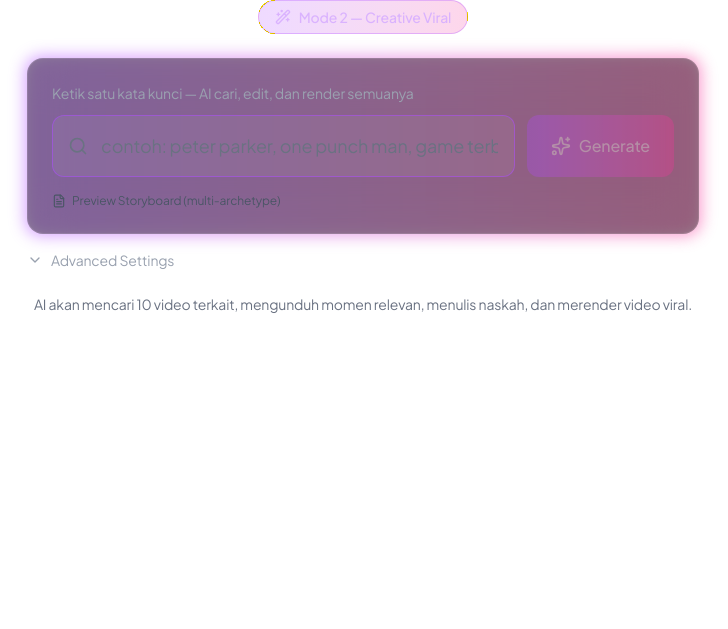
it: Mode2Console storyboard editing › removes a clip and relabels roles
The width and height of the screenshot is (728, 629).
Type "saitama" into the field with placeholder "contoh: peter parker, one punch man, game terbaik..." at (283, 146), box left=52, top=115, right=515, bottom=177
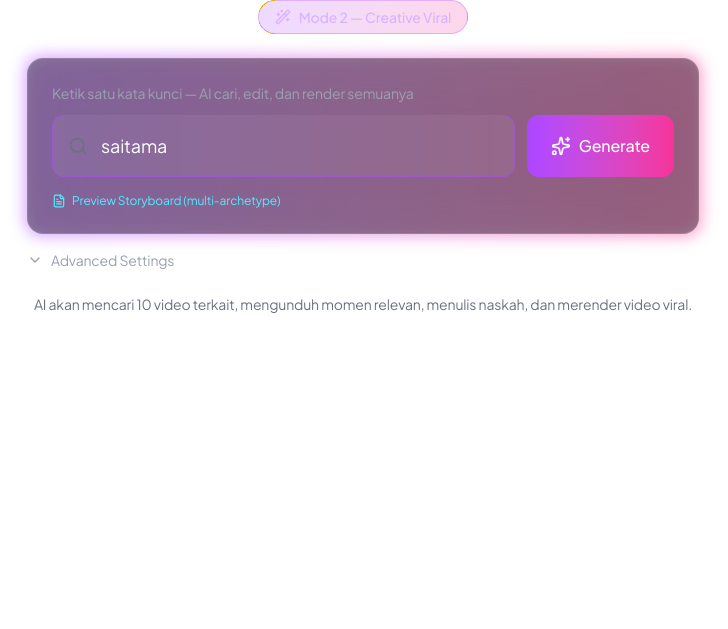
Click the button "Preview Storyboard (multi-archetype)" at (166, 201), box left=52, top=193, right=280, bottom=209
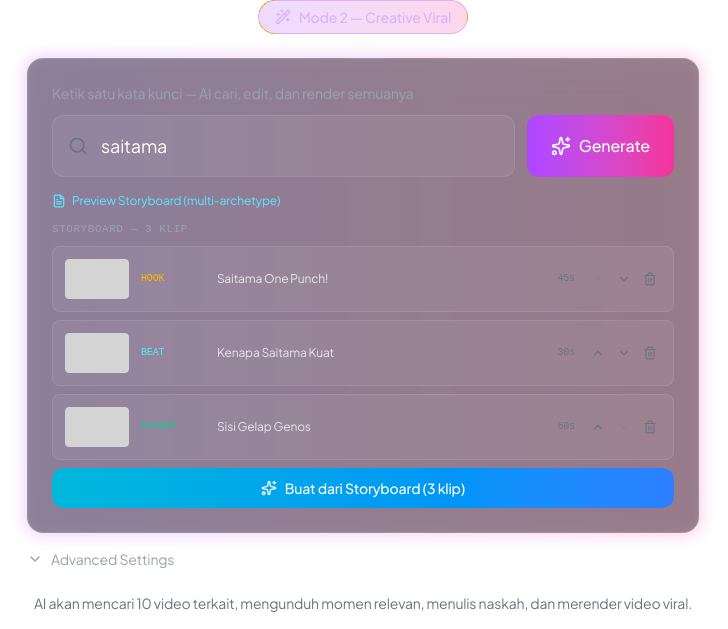
expect the text "Saitama One Punch!" is shown: met, box left=217, top=270, right=328, bottom=286
Click the button named "Remove clip" in the row of "30" at (650, 352), box left=639, top=342, right=661, bottom=364
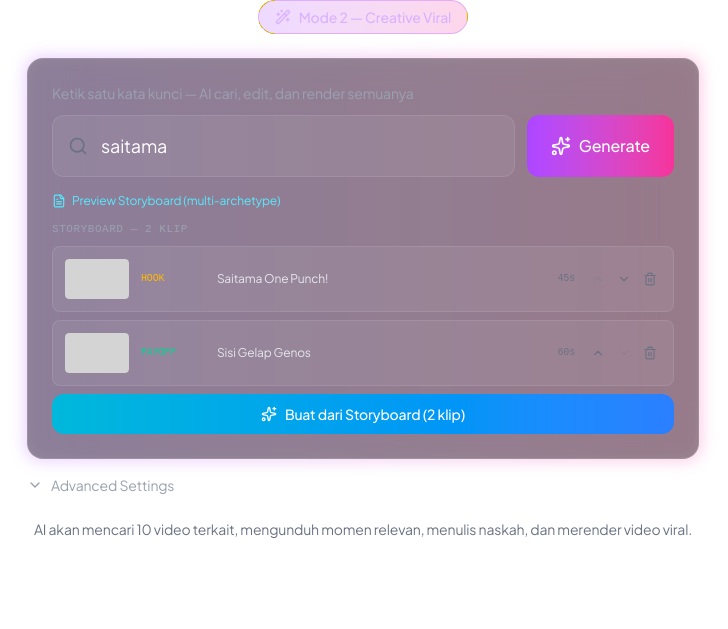
expect the text "Storyboard — 2 klip" is shown: met, box left=52, top=223, right=188, bottom=235
expect the text "payoff" is shown: met, box left=141, top=347, right=176, bottom=358
expect the text "Kenapa Saitama Kuat" is gone: met
